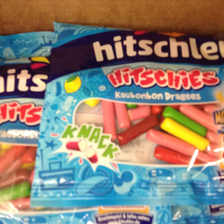candy: (40, 22, 224, 206)
